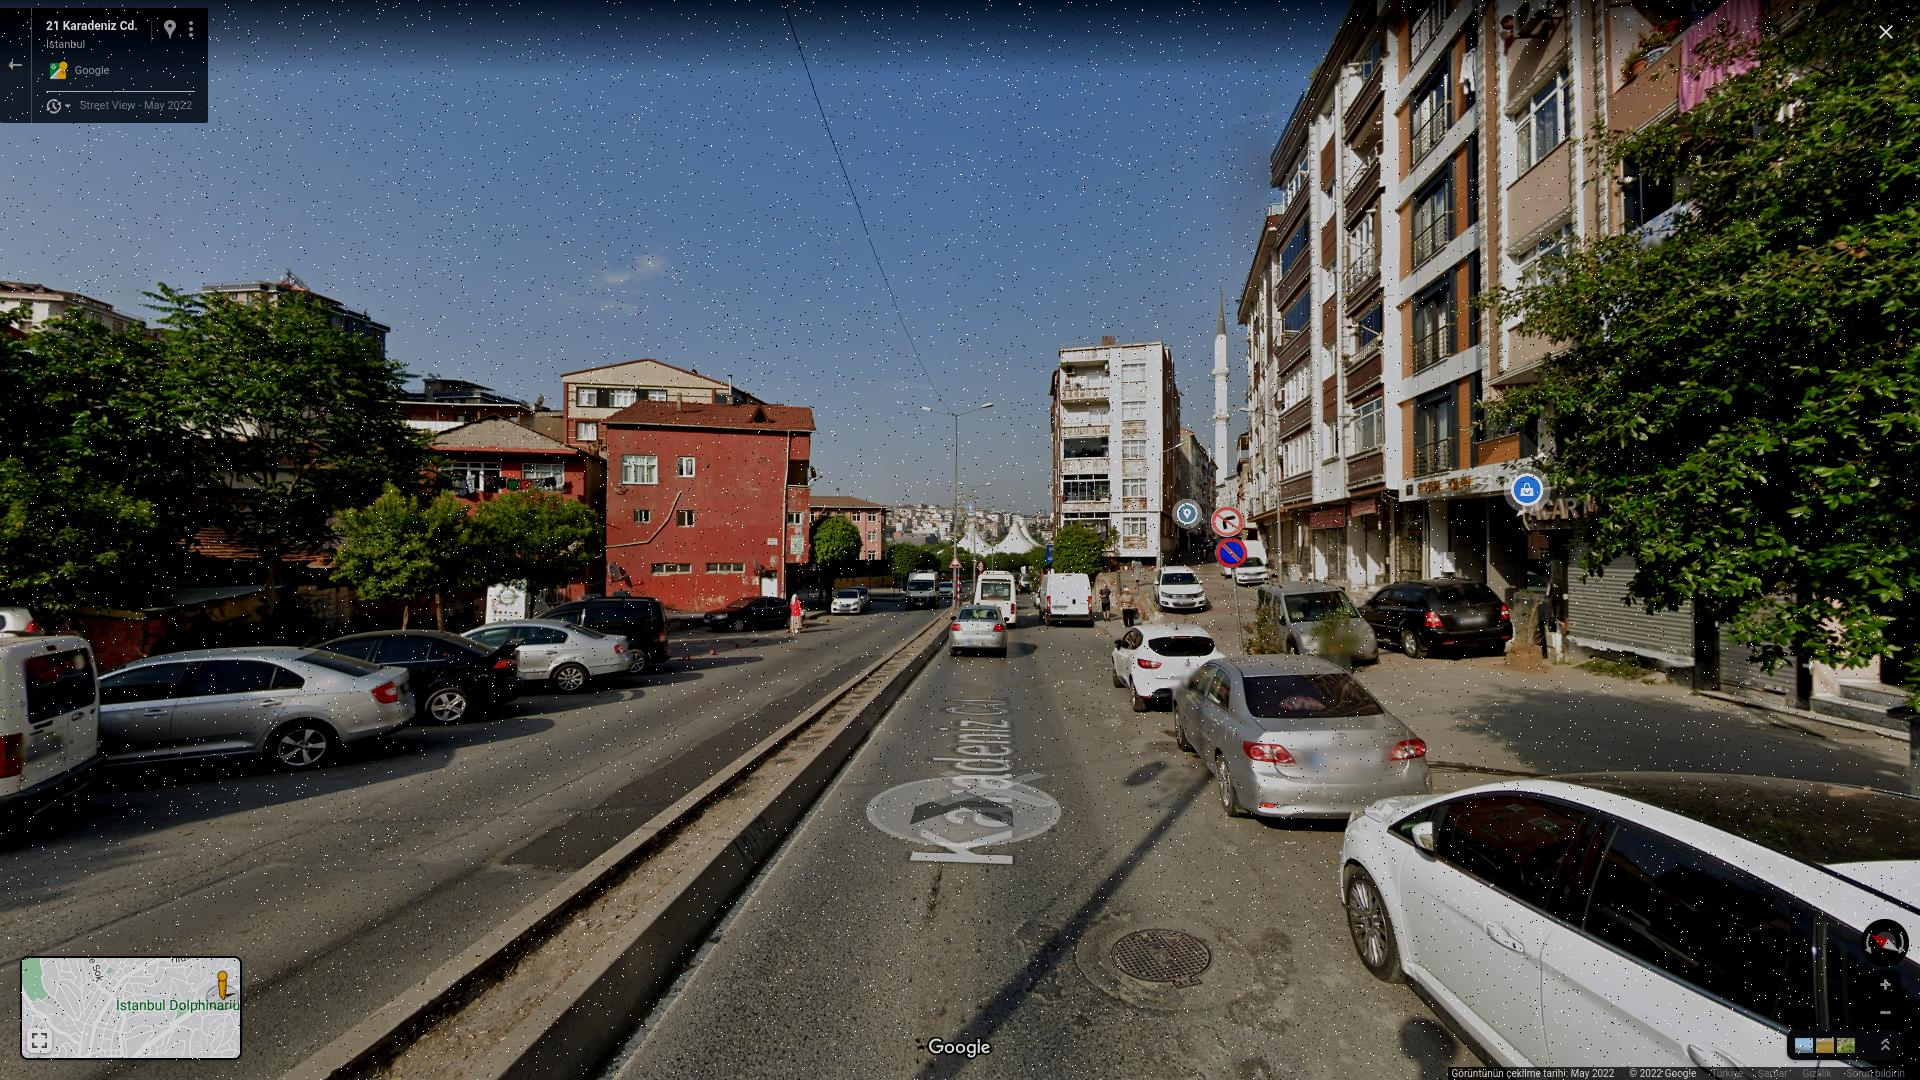nopark: (1215, 539, 1247, 567)
rightturnsareforbidden: (1211, 508, 1245, 537)
